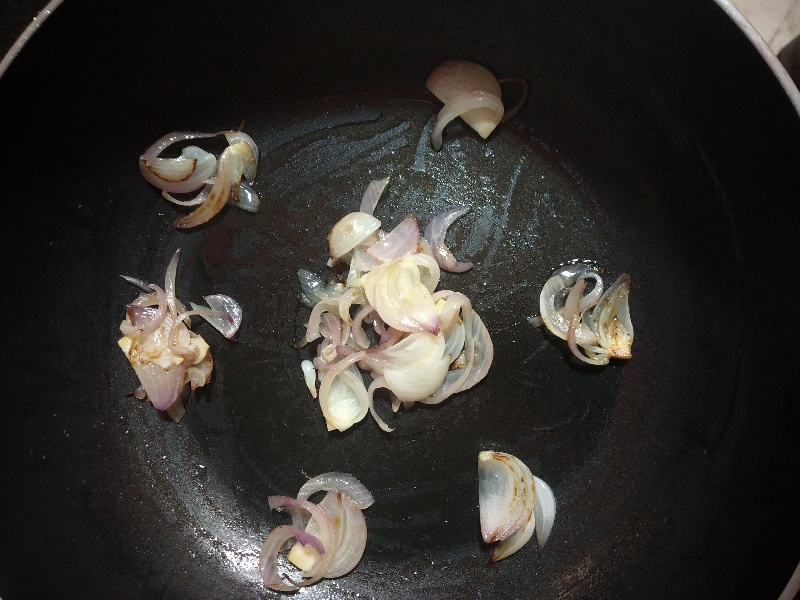onion_golden: (112, 261, 241, 413), (136, 131, 276, 229), (466, 441, 559, 572), (550, 266, 644, 368)
